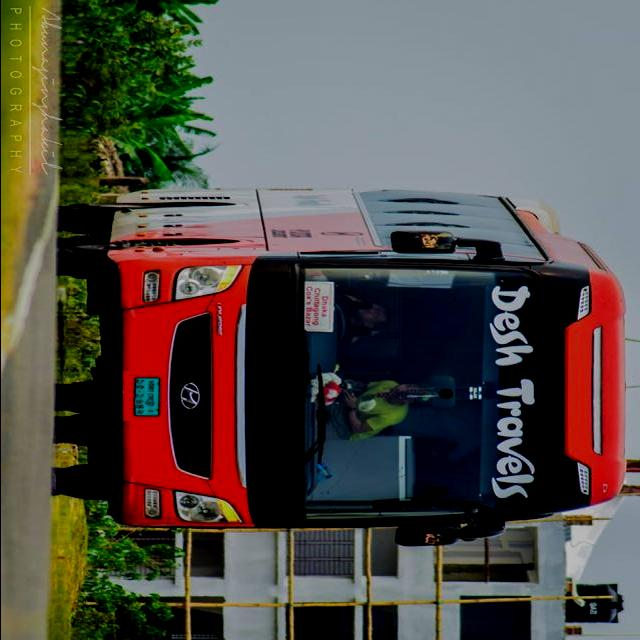bus: (52, 189, 629, 547)
